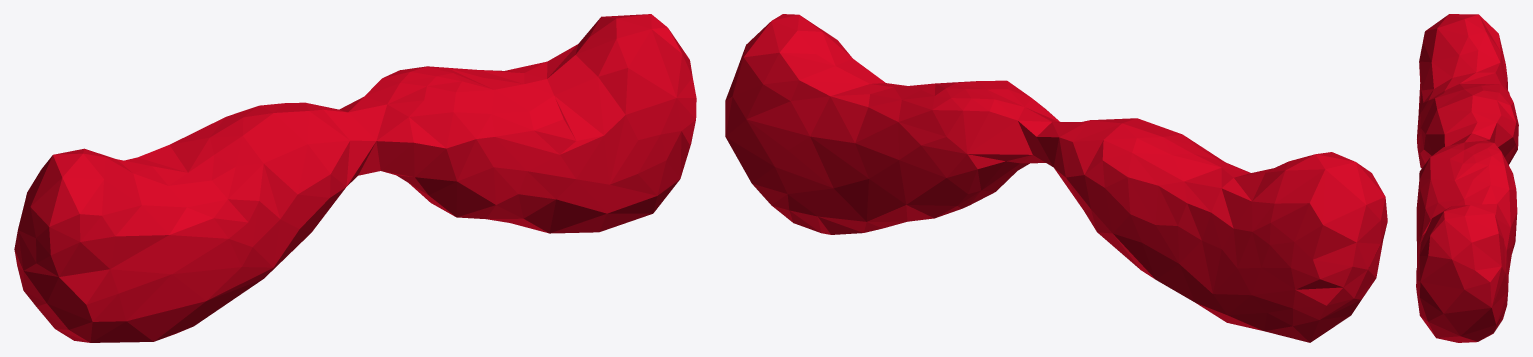
The model's file is 217-24.23c-area 24.23c of cortex-('1.0000', '0.0000', '0.1529').obj.
The picture shows the model from 3 angles, left to right: view 1: azimuth 30°, elevation 25°; view 2: azimuth 150°, elevation 25°; view 3: azimuth 270°, elevation 25°; orthographic projection. The views are drawn at different scales.
Bounding box in the file's own units: 85.39 × 24.43 × 16.14.
